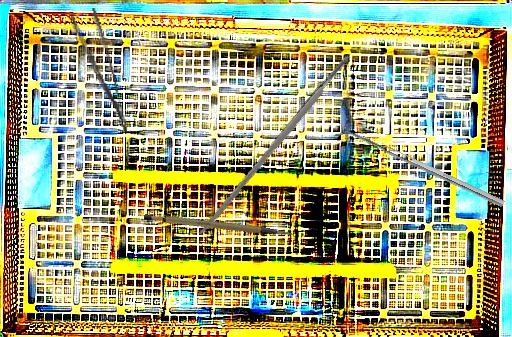Dressing Forceps: (68, 6, 131, 138)
Scalpel Handle: (196, 54, 353, 238), (142, 194, 294, 260)
Spatula Surgical: (333, 123, 505, 214)
